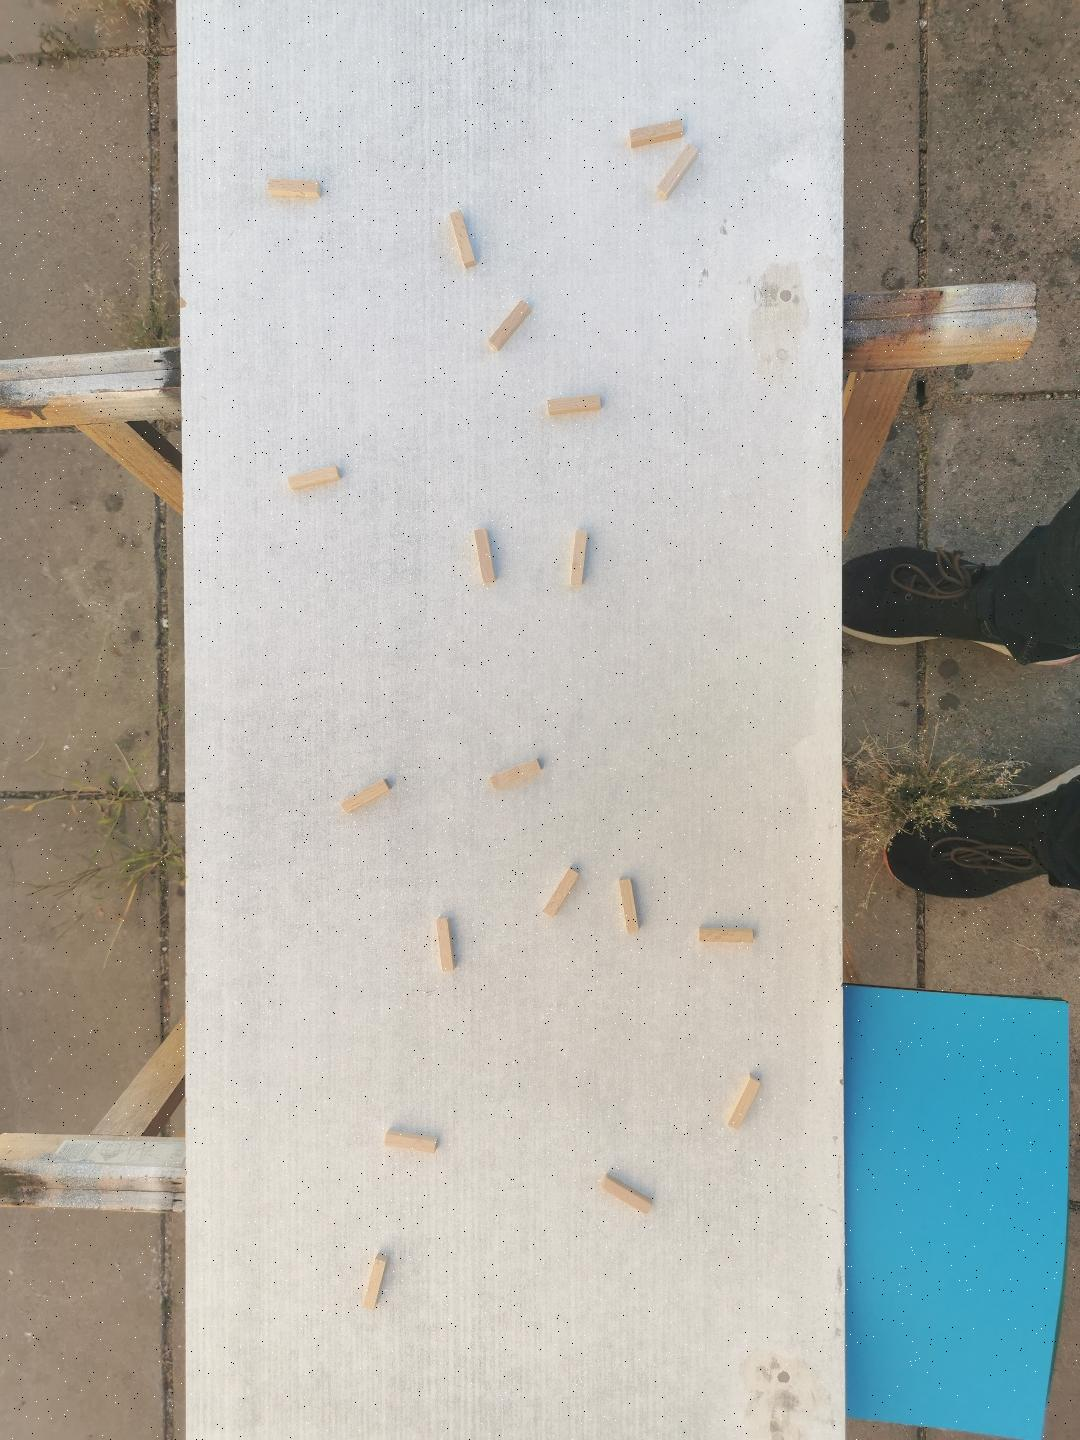jenga: (656, 144, 698, 200), (489, 300, 532, 351), (599, 1176, 652, 1215), (726, 1075, 762, 1130), (542, 869, 580, 917), (340, 779, 391, 813), (489, 760, 542, 790), (630, 121, 683, 149), (363, 1254, 388, 1311), (450, 211, 475, 268), (287, 467, 340, 492), (472, 528, 495, 585), (386, 1130, 439, 1153), (268, 177, 321, 200), (618, 878, 639, 934), (436, 917, 456, 973), (548, 393, 602, 414), (698, 925, 753, 945), (571, 528, 588, 587)
